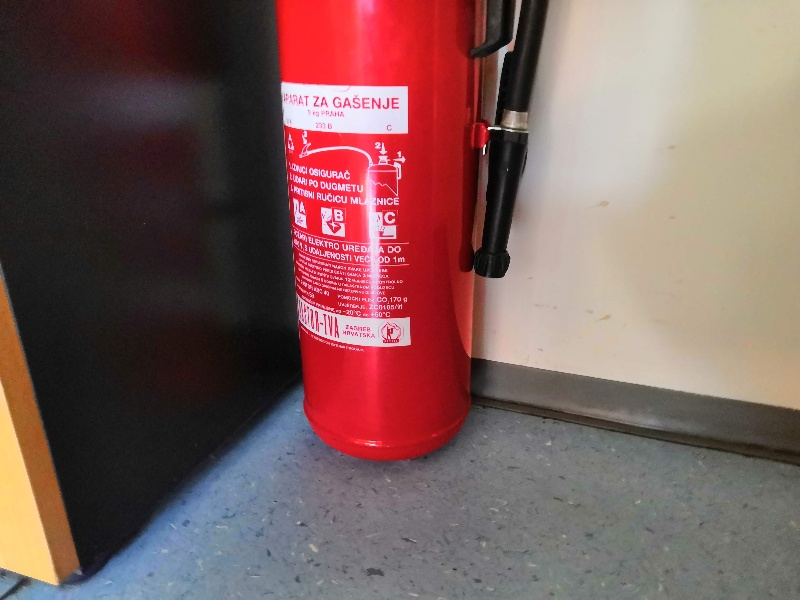vataparat: (275, 1, 547, 462)
